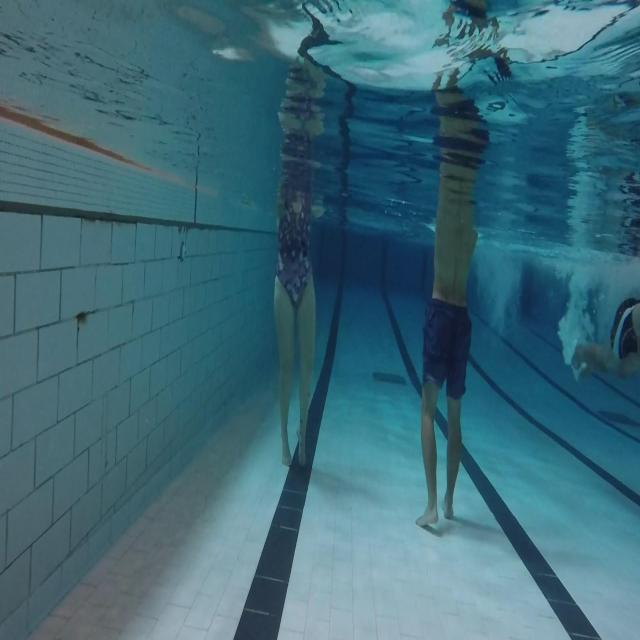human: (414, 65, 491, 528), (272, 52, 328, 468), (570, 295, 639, 381)
